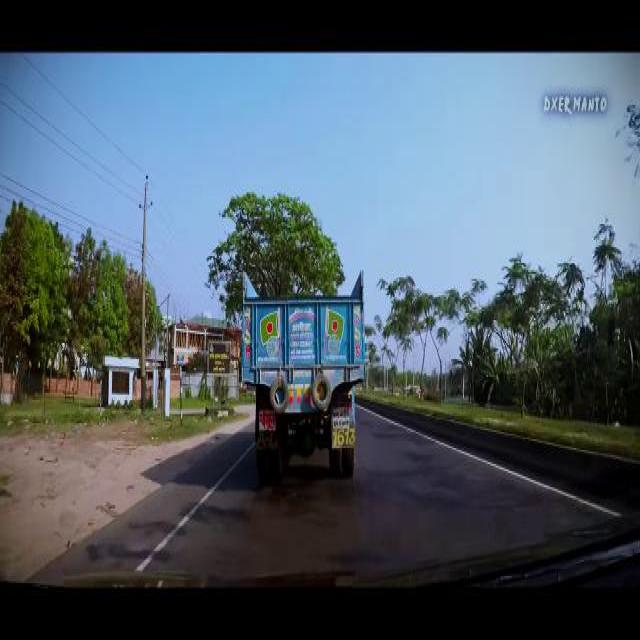truck: (240, 266, 366, 476)
